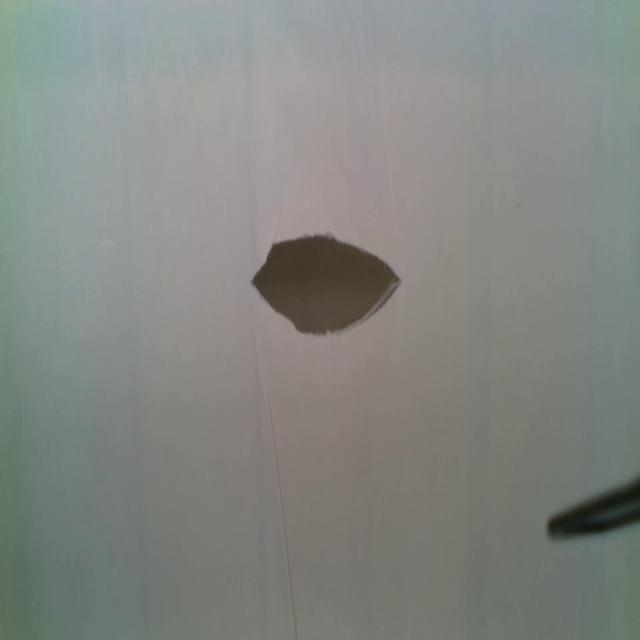color bleeding: (0, 0, 640, 106)
crease: (255, 329, 299, 640)
hole: (249, 230, 404, 340)
